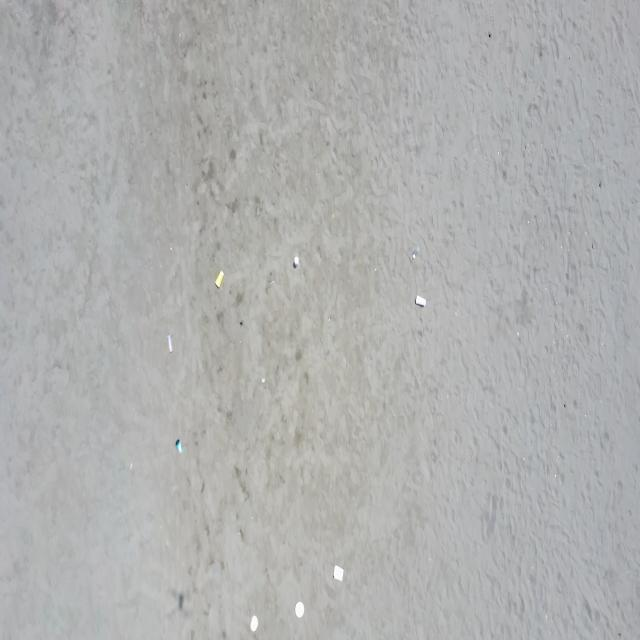take-away-containers: (333, 563, 344, 583), (250, 614, 259, 632), (294, 602, 304, 618)
takeaway-cup: (215, 270, 225, 289), (409, 247, 420, 263), (415, 294, 427, 308), (166, 334, 173, 354), (175, 438, 183, 454), (293, 256, 300, 267)
